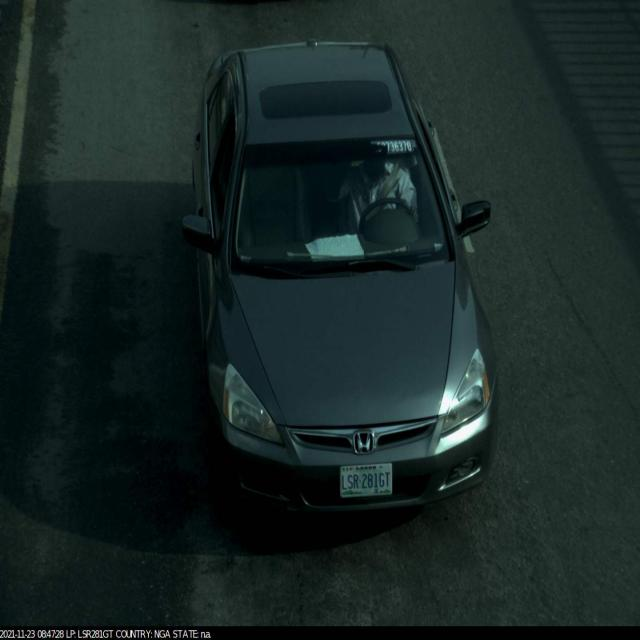windshield: (218, 118, 467, 290)
